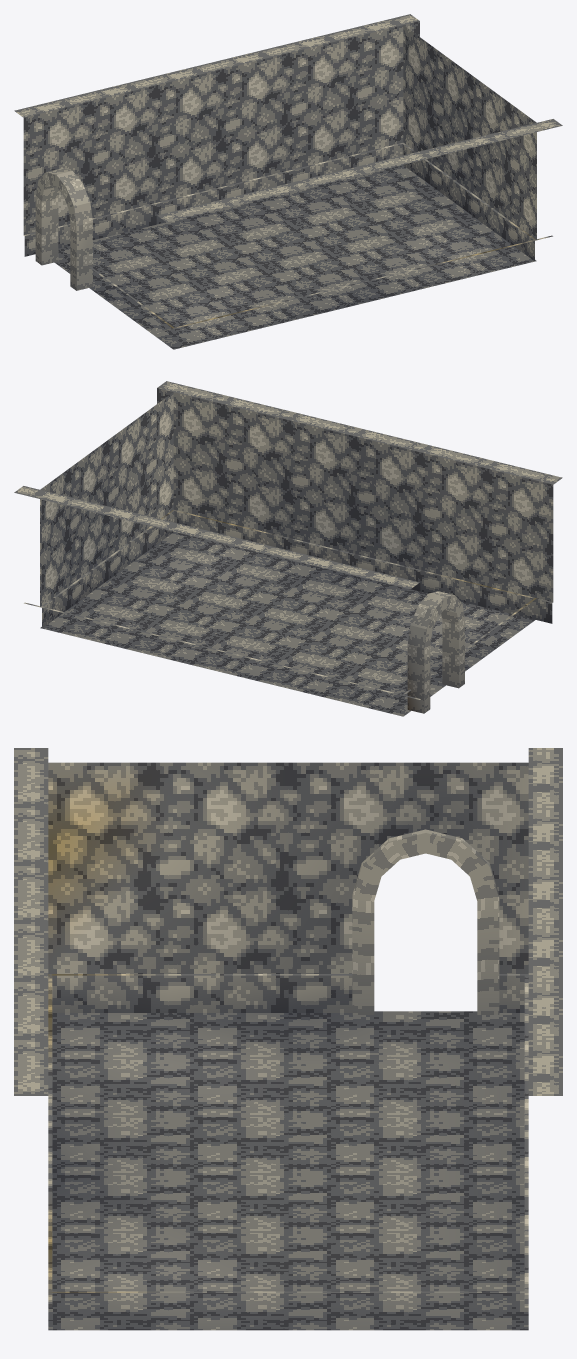
File: cst.hall__dungeon.glb
3 views of the same model, one above another, from view 1: azimuth 30°, elevation 25°; view 2: azimuth 150°, elevation 25°; view 3: azimuth 270°, elevation 25° (orthographic). The views are drawn at different scales.
Visible parts, largest first — view 1: kit_shell_walls, kit_shell_floor, kit_fittings; view 2: kit_shell_walls, kit_shell_floor, kit_fittings; view 3: kit_shell_floor, kit_shell_walls, kit_fittings.
Boxes of the visible parts, x1,y1,x2,y2 form: kit_shell_walls: [14, 14, 562, 332]; kit_shell_floor: [54, 165, 536, 349]; kit_fittings: [35, 168, 92, 290]; kit_shell_walls: [14, 381, 562, 699]; kit_shell_floor: [40, 532, 535, 716]; kit_fittings: [407, 591, 464, 713]; kit_shell_floor: [48, 1011, 528, 1330]; kit_shell_walls: [14, 748, 562, 1307]; kit_fittings: [352, 829, 499, 1014].
Bounding box in the file's own units: 12 × 4 × 8.
Materials: 4 (4 with a texture image).
